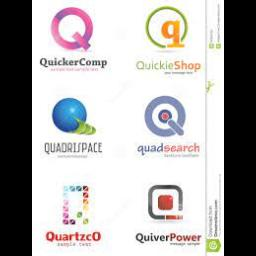q: (46, 6, 98, 52)
